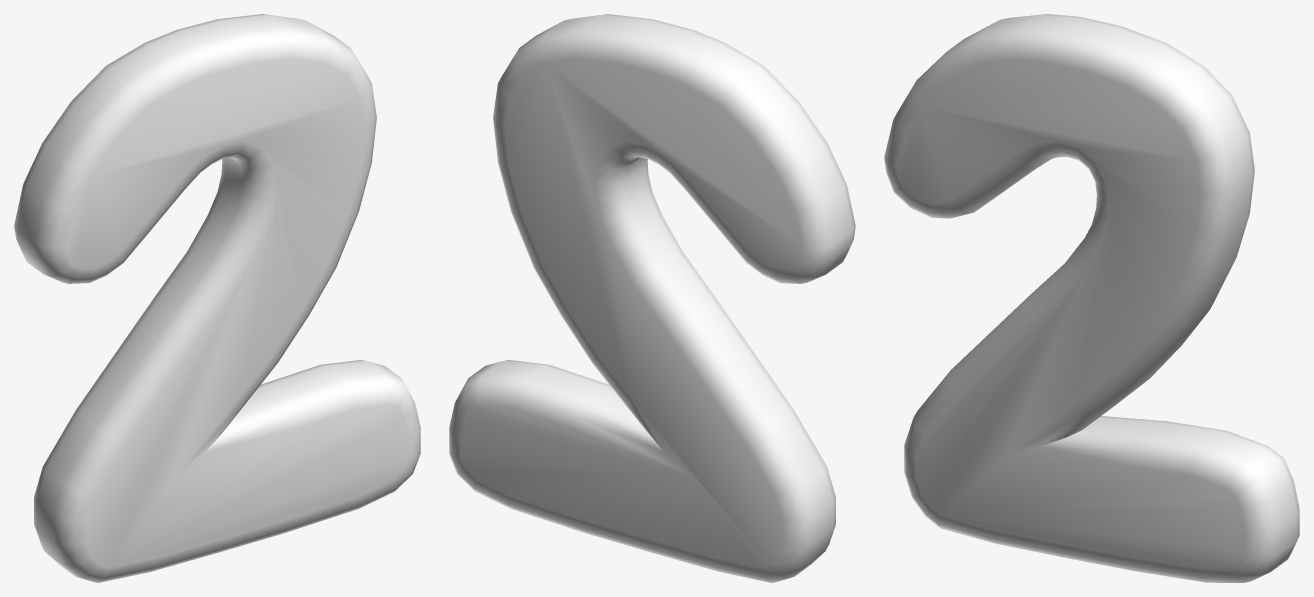
Rendered from NumberTwo 2.fbx.
The picture shows the model from 3 angles, left to right: view 1: azimuth 30°, elevation 25°; view 2: azimuth 150°, elevation 25°; view 3: azimuth 330°, elevation 25°; orthographic projection. The views are drawn at different scales.
Visible parts, largest first — view 1: Vert.025; view 2: Vert.025; view 3: Vert.025.
Boxes of the visible parts, bbox=[...] form: Vert.025: bbox=[14, 14, 420, 582]; Vert.025: bbox=[449, 14, 855, 582]; Vert.025: bbox=[884, 14, 1299, 582].
Bounding box in the file's own units: 379 × 485 × 69.56.
